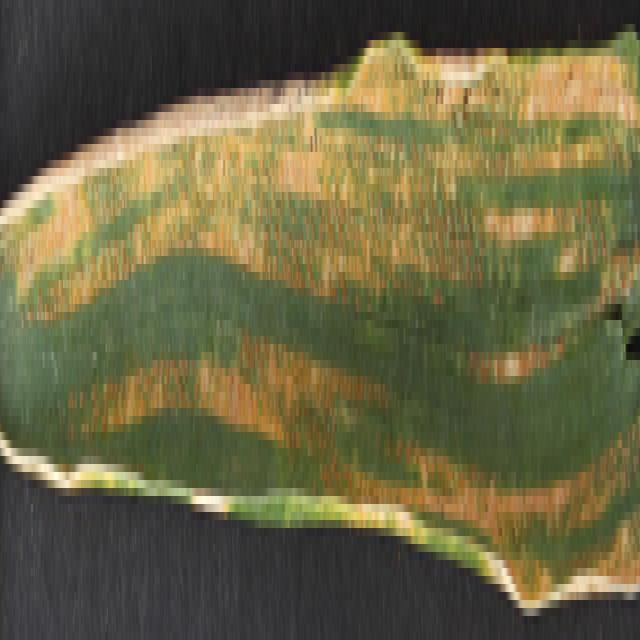leaf rust: (16, 16, 638, 592)
